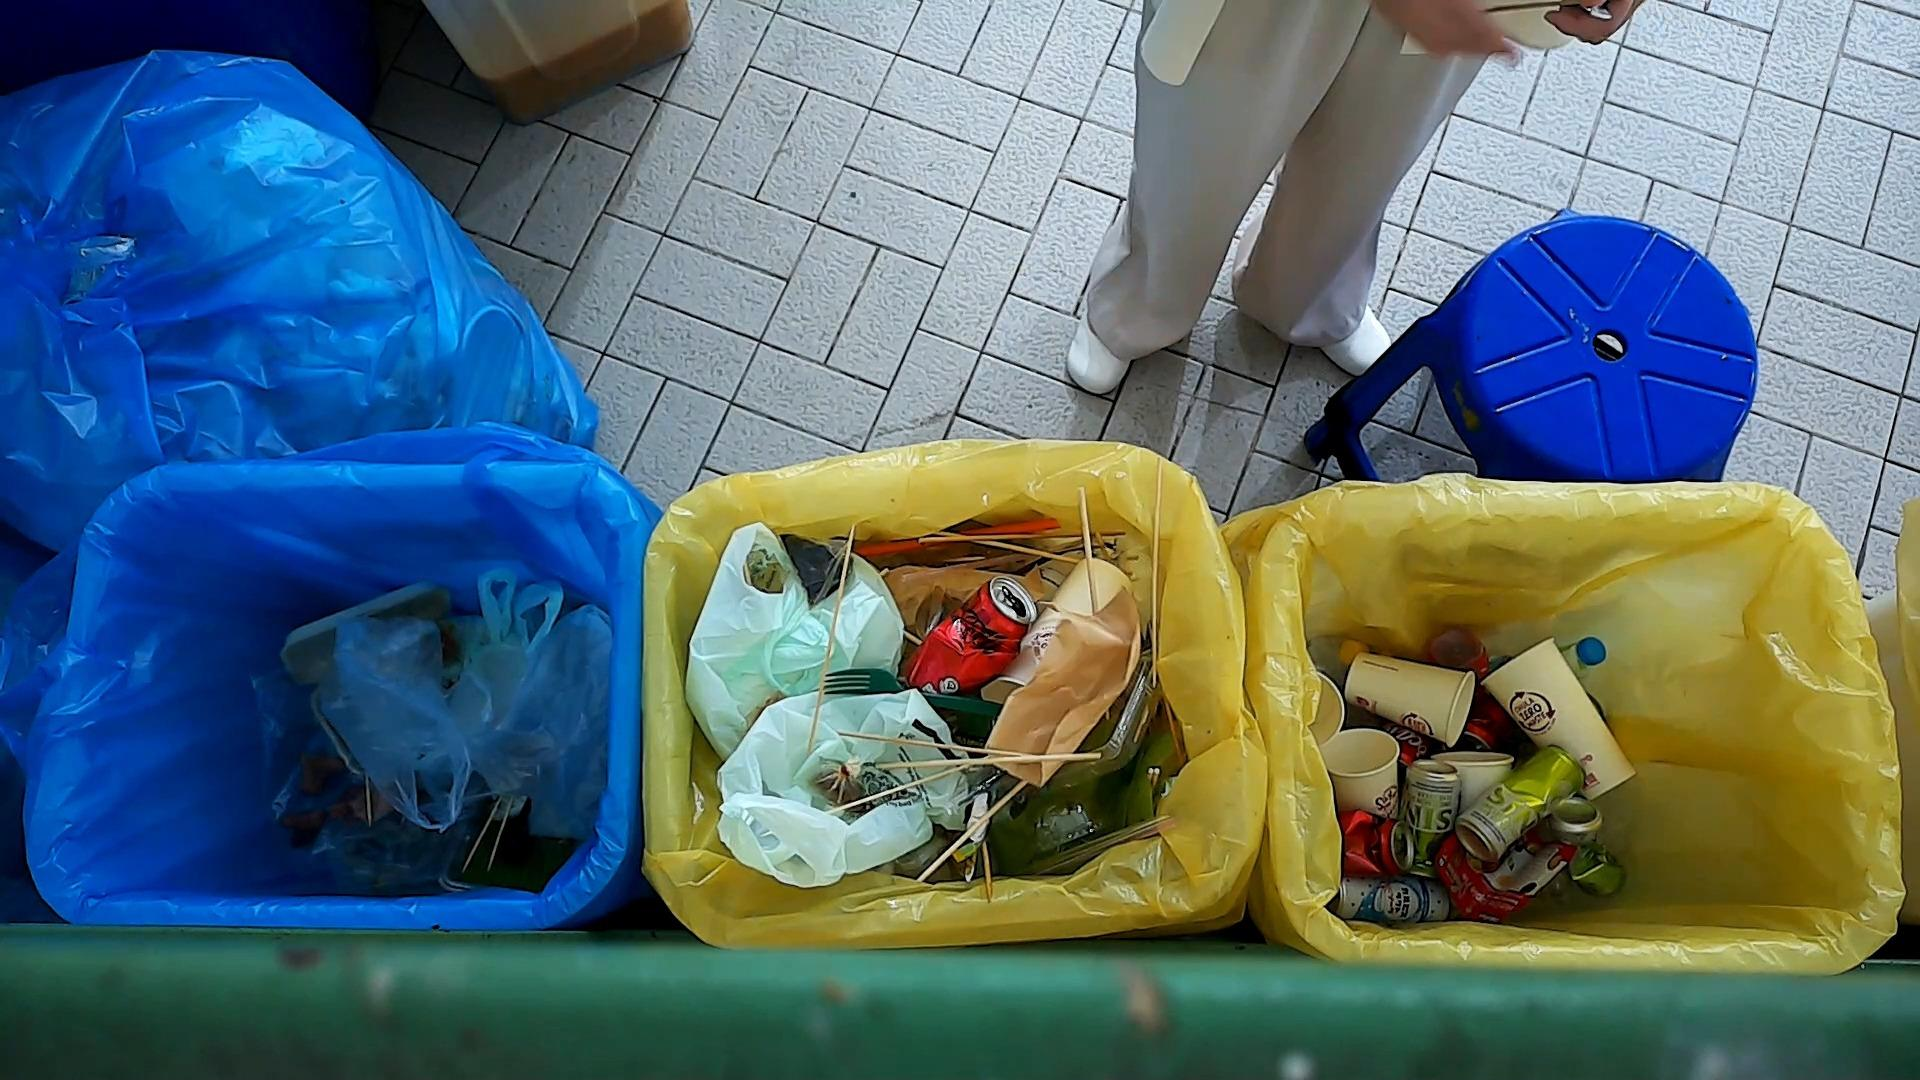can: (903, 571, 1040, 703), (1451, 740, 1590, 868), (1544, 793, 1633, 902), (1396, 753, 1462, 882), (1331, 873, 1452, 927), (1335, 804, 1419, 881)
filled plastic bag: (679, 517, 914, 760), (305, 605, 485, 841)
paper bag: (981, 584, 1145, 796), (886, 559, 1052, 644)
plastic bag: (709, 683, 982, 897), (419, 599, 617, 845)
plastic cutlery: (822, 666, 1004, 719)
snack packaging: (1431, 823, 1580, 924)
sticks: (802, 521, 860, 761), (913, 774, 1029, 886), (822, 765, 971, 815), (835, 728, 1035, 758), (874, 749, 1104, 775), (931, 527, 1080, 567), (915, 525, 1131, 547), (1149, 455, 1167, 690), (459, 793, 506, 876), (1075, 481, 1100, 608), (485, 796, 516, 876)
straw: (898, 550, 1033, 584)
zero waste cup: (1477, 633, 1639, 804), (1341, 646, 1480, 749), (1319, 725, 1404, 822)
